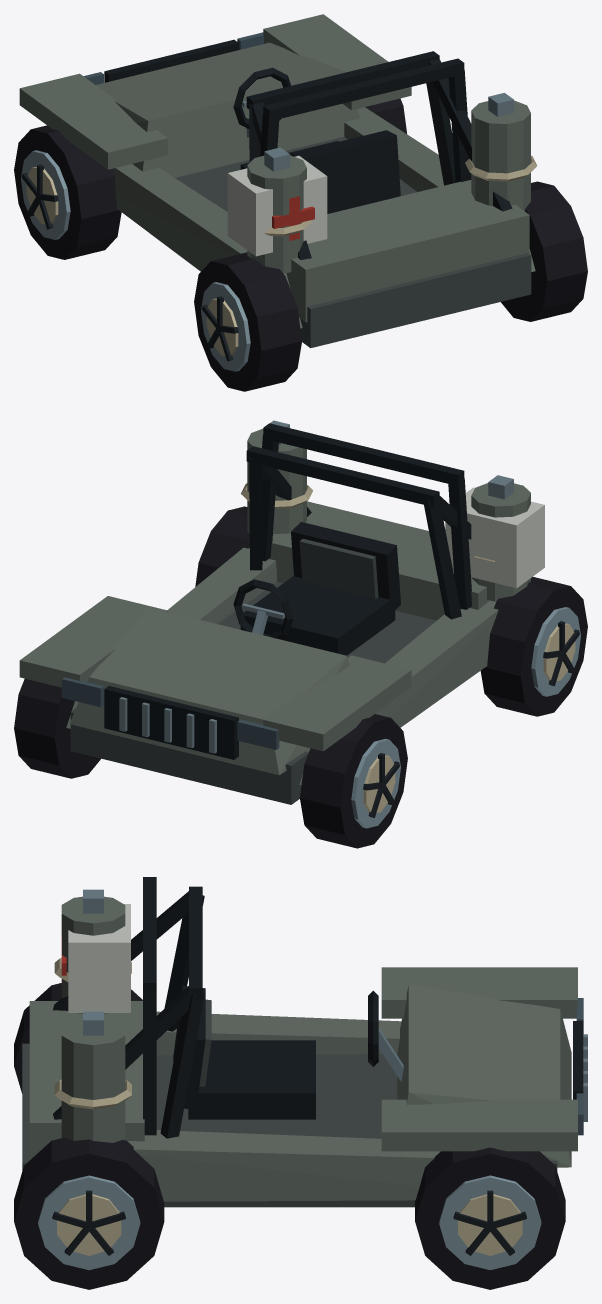
The model's file is kart.glb.
3 renders of one model, top to bottom at view 1: azimuth 30°, elevation 25°; view 2: azimuth 150°, elevation 25°; view 3: azimuth 270°, elevation 25°, orthographic. The views are drawn at different scales.
Visible parts, largest first — view 1: identity-jeep-jeep-offroad-frame, wheel-rear-left, wheel-front-left, identity-jeep-motif-tanks, wheel-rear-right, identity-jeep-driver-cockpit, identity-jeep-motif-medical, identity-jeep-motif-rollbar, wheel-front-right; view 2: identity-jeep-jeep-offroad-frame, identity-jeep-driver-cockpit, wheel-rear-left, wheel-front-left, identity-jeep-motif-rollbar, identity-jeep-motif-medical, wheel-front-right, identity-jeep-motif-tanks, wheel-rear-right; view 3: identity-jeep-jeep-offroad-frame, wheel-rear-right, wheel-front-right, identity-jeep-driver-cockpit, identity-jeep-motif-tanks, identity-jeep-motif-medical, identity-jeep-motif-rollbar, wheel-rear-left.
Part boxes in pixels (x1,y1,x2,y2): identity-jeep-jeep-offroad-frame: (19,14,535,348); wheel-rear-left: (194,252,301,391); wheel-front-left: (14,125,121,259); identity-jeep-motif-tanks: (247,93,537,273); wheel-rear-right: (501,181,587,321); identity-jeep-driver-cockpit: (233,67,400,213); identity-jeep-motif-medical: (227,155,327,256); identity-jeep-motif-rollbar: (260,58,471,182); wheel-front-right: (365,98,406,133); identity-jeep-jeep-offroad-frame: (19,446,498,804); identity-jeep-driver-cockpit: (233,522,400,655); wheel-rear-left: (480,577,587,716); wheel-front-left: (300,714,407,848); identity-jeep-motif-rollbar: (262,423,471,609); identity-jeep-motif-medical: (445,487,544,588); wheel-front-right: (14,678,100,778); identity-jeep-motif-tanks: (241,420,530,601); wheel-rear-right: (195,506,249,586); identity-jeep-jeep-offroad-frame: (22,886,587,1207); wheel-rear-right: (14,1137,164,1289); wheel-front-right: (415,1147,565,1289); identity-jeep-driver-cockpit: (173,986,403,1119); identity-jeep-motif-tanks: (54,889,131,1142); identity-jeep-motif-medical: (61,904,130,1012); identity-jeep-motif-rollbar: (143,877,156,1135); wheel-rear-left: (14,983,142,1093).
Bounding box in the file's own units: 2.13 × 1.43 × 2.75.
